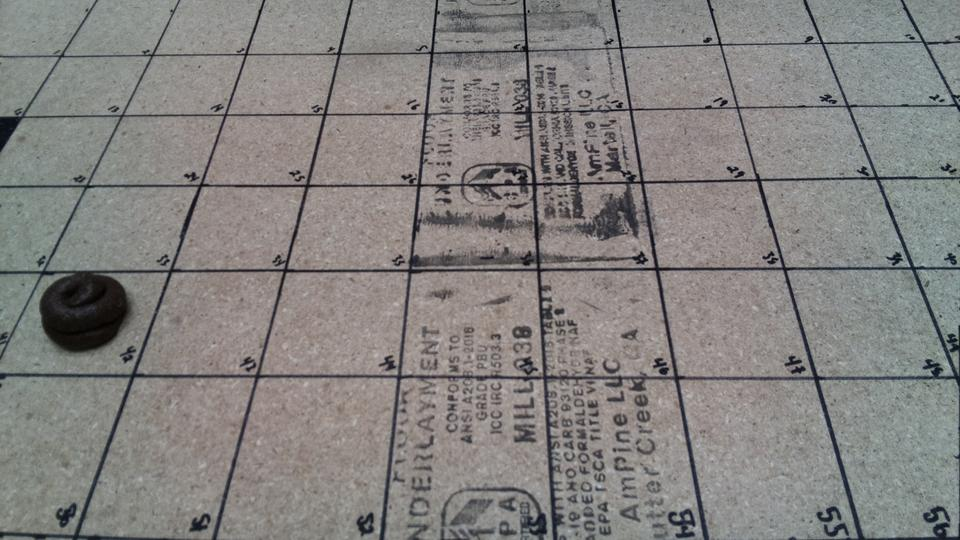poop: (37, 269, 130, 354)
